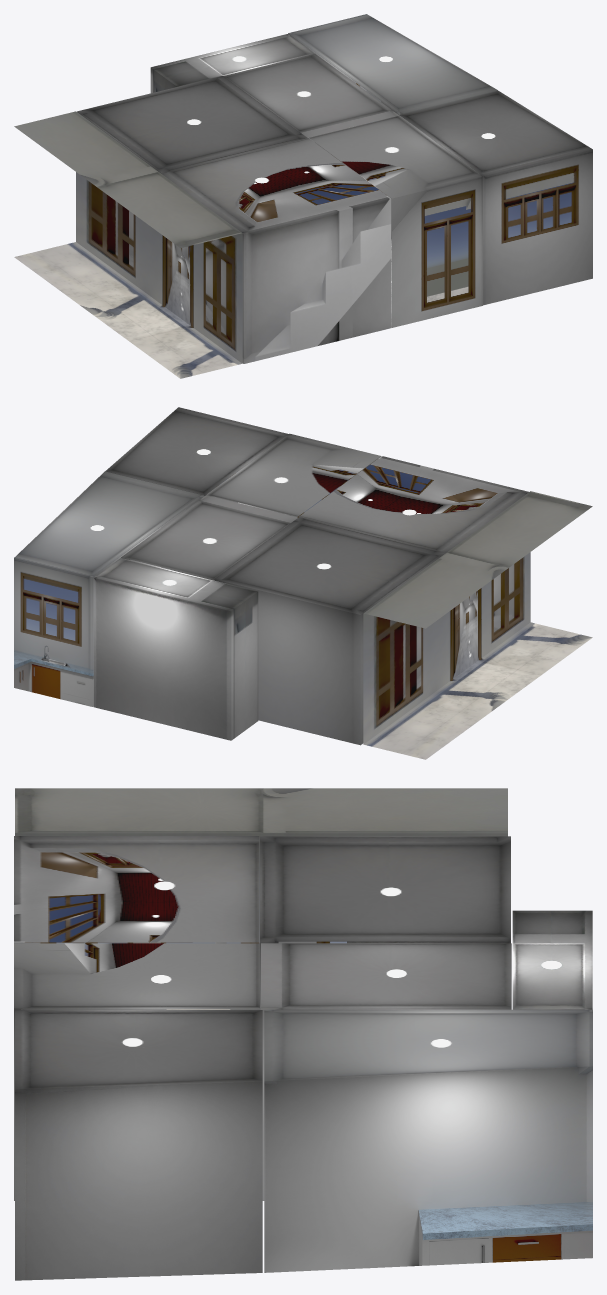
Rendered from floor1.glb.
The picture shows the model from 3 angles, top to bottom: view 1: azimuth 30°, elevation 25°; view 2: azimuth 150°, elevation 25°; view 3: azimuth 270°, elevation 25°; orthographic projection. The views are drawn at different scales.
Visible parts, largest first — view 1: Pano Plane 17, Pano Plane, Pano Plane 06, Pano Plane 02, Pano Plane 07, Pano Plane 04, Pano Plane 03, Pano Plane 05; view 2: Pano Plane 17, Pano Plane 07, Pano Plane 05, Pano Plane 04, Pano Plane, Pano Plane 06, Pano Plane 03, Pano Plane 02; view 3: Pano Plane 04, Pano Plane 06, Pano Plane 07, Pano Plane, Pano Plane 17, Pano Plane 03, Pano Plane 02, Pano Plane 05.
Boxes of the visible parts, x1,y1,x2,y2 form: Pano Plane 17: (14,111,242,378); Pano Plane: (161,138,391,363); Pano Plane 06: (399,91,592,305); Pano Plane 02: (309,115,482,327); Pano Plane 07: (77,76,306,173); Pano Plane 04: (288,14,498,187); Pano Plane 03: (223,53,398,246); Pano Plane 05: (150,34,314,127); Pano Plane 17: (363,491,592,759); Pano Plane 07: (214,517,445,745); Pano Plane 05: (93,558,258,740); Pano Plane 04: (14,471,204,706); Pano Plane: (299,456,528,552); Pano Plane 06: (105,407,288,502); Pano Plane 03: (121,495,297,580); Pano Plane 02: (206,433,380,540); Pano Plane 04: (264,1009,592,1272); Pano Plane 06: (15,1010,262,1280); Pano Plane 07: (260,836,510,1009); Pano Plane: (14,836,259,1009); Pano Plane 17: (15,788,507,943); Pano Plane 03: (261,943,511,1200); Pano Plane 02: (14,943,259,1200); Pano Plane 05: (512,910,592,1009).
Bounding box in the file's own units: 11 × 3.34 × 9.03.
8 materials, 8 textured.
